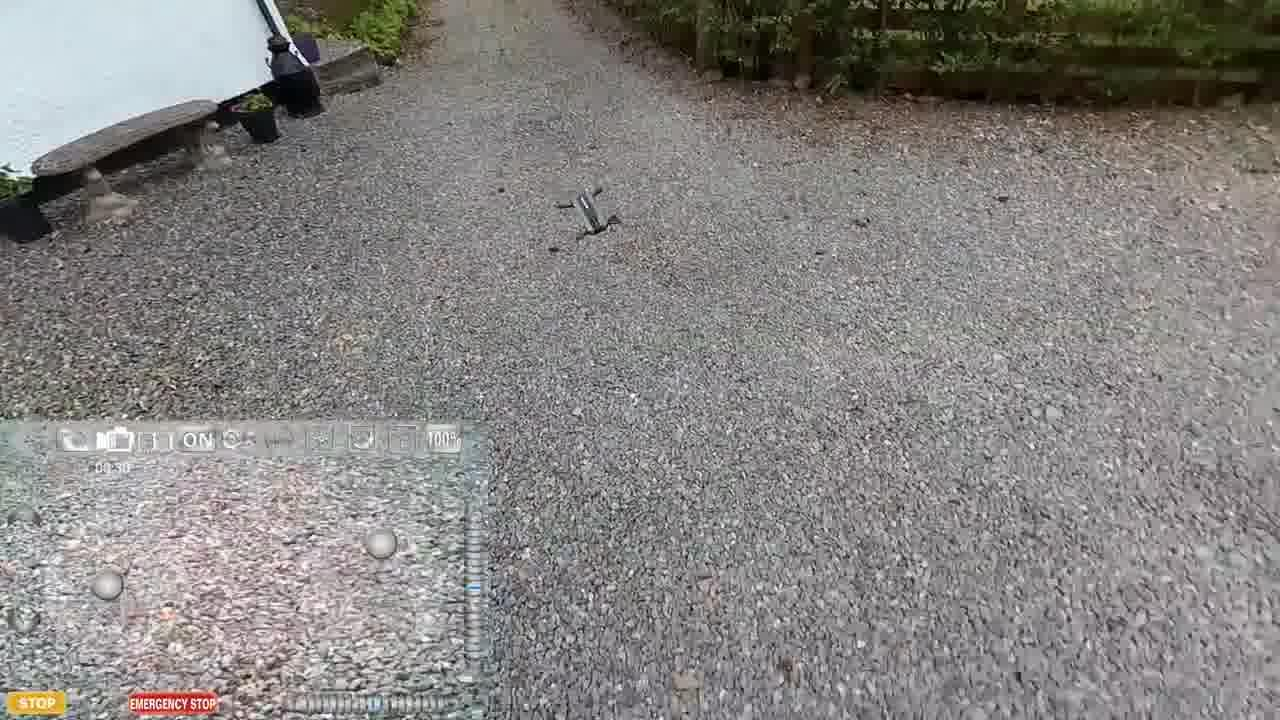drone: (545, 176, 634, 244)
